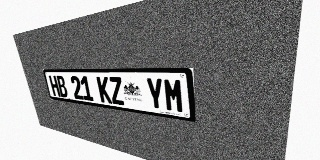1: (79, 76, 94, 101)
2: (70, 76, 84, 100)
B: (56, 76, 69, 98)
H: (48, 75, 61, 97)
K: (96, 76, 112, 104)
M: (163, 78, 185, 114)
Y: (145, 78, 165, 111)
Z: (108, 77, 125, 105)
